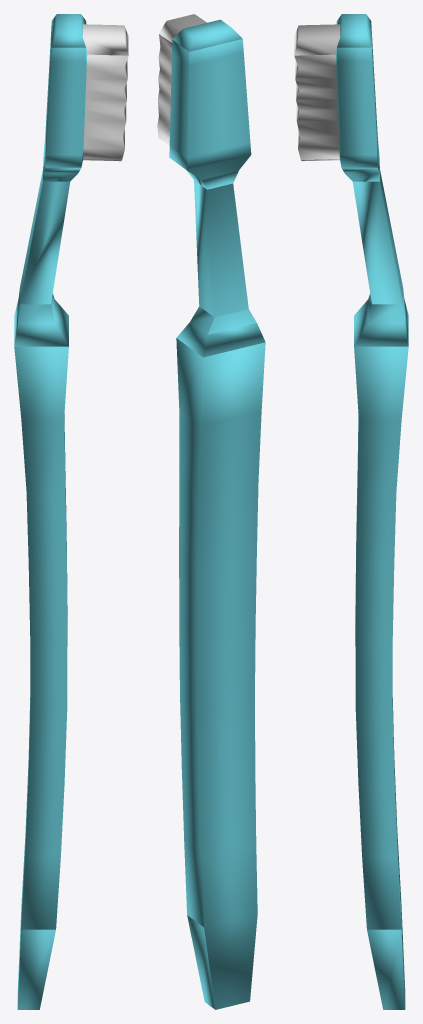
The model's file is tooth_brush.fbx.
3 views of the same model, side by side, from view 1: azimuth 90°, elevation 25°; view 2: azimuth 210°, elevation 25°; view 3: azimuth 270°, elevation 25° (orthographic). The views are drawn at different scales.
Visible parts, largest first — view 1: toothbrush1, toothbrush2; view 2: toothbrush1, toothbrush2; view 3: toothbrush1, toothbrush2.
Part boxes in pixels (bbox=[...]): toothbrush1: bbox=[14, 14, 87, 1009]; toothbrush2: bbox=[82, 24, 128, 161]; toothbrush1: bbox=[169, 19, 265, 1009]; toothbrush2: bbox=[157, 14, 206, 145]; toothbrush1: bbox=[335, 14, 408, 1009]; toothbrush2: bbox=[294, 24, 340, 161].
Size of the model in its own units: 0.1583 by 2.26 by 0.2394.
